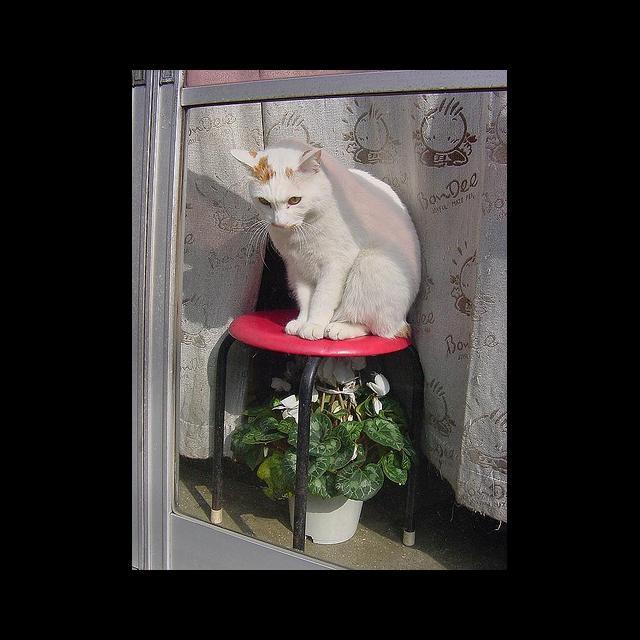animals: (230, 149, 320, 227)
